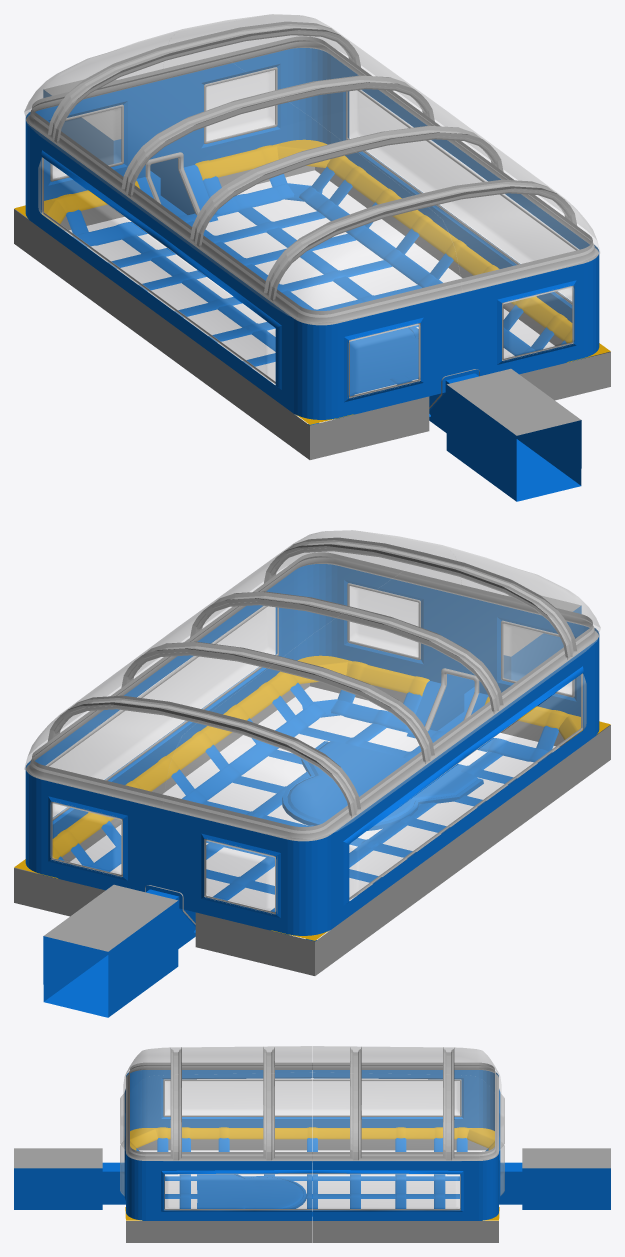
The model's file is SkyZone Room.fbx.
3 renders of one model, top to bottom at view 1: azimuth 30°, elevation 25°; view 2: azimuth 150°, elevation 25°; view 3: azimuth 270°, elevation 25°, orthographic. The views are drawn at different scales.
Parts seen in each view (by area): view 1: Ceiling (×4), Wall2 (×4), Window (×4), LowCover (×6), Wall1 (×4), CeilingTrim (×8), Window1 (×4), polySurface11 (×4), polySurface9 (×4), polySurface8 (×2), PadsHorizontal (×2), PadsVertical (×2) (+6 smaller); view 2: Ceiling (×4), Wall2 (×4), Window (×4), LowCover (×6), Wall1 (×4), CeilingTrim (×8), Window1 (×4), polySurface11 (×4), polySurface9 (×4), polySurface8 (×2), pCylinder2, PadsHorizontal (×3) (+6 smaller); view 3: Ceiling (×4), Window (×4), Wall2 (×4), Wall1 (×4), LowCover (×4), CeilingTrim (×6), polySurface8 (×2), polySurface9 (×4), polySurface11 (×4), WindowTrim (×4), PadsHorizontal (×3), pCylinder2 (+3 smaller).
Part boxes in pixels (box(x1,y1,x2,y2)): Ceiling (×4): box(24, 14, 600, 323); Wall2 (×4): box(25, 48, 599, 501); Window (×4): box(38, 90, 575, 382); LowCover (×6): box(14, 167, 610, 459); Wall1 (×4): box(30, 55, 594, 413); CeilingTrim (×8): box(26, 36, 598, 325); Window1 (×4): box(53, 70, 573, 397); polySurface11 (×4): box(48, 21, 576, 301); polySurface9 (×4): box(121, 75, 503, 247); polySurface8 (×2): box(299, 155, 572, 355); PadsHorizontal (×2): box(108, 211, 420, 337); PadsVertical (×2): box(122, 207, 371, 327); Ceiling (×4): box(24, 530, 600, 839); Wall2 (×4): box(25, 564, 599, 1017); Window (×4): box(49, 606, 586, 898); LowCover (×6): box(14, 683, 610, 975); Wall1 (×4): box(30, 571, 594, 929); CeilingTrim (×8): box(26, 552, 598, 841); Window1 (×4): box(51, 586, 571, 913); polySurface11 (×4): box(48, 537, 576, 817); polySurface9 (×4): box(121, 591, 503, 763); polySurface8 (×2): box(52, 671, 325, 871); pCylinder2: box(282, 741, 402, 825); PadsHorizontal (×3): box(194, 727, 516, 932); Ceiling (×4): box(123, 1046, 501, 1160); Window (×4): box(164, 1081, 460, 1209); Wall2 (×4): box(14, 1070, 610, 1220); Wall1 (×4): box(146, 1070, 478, 1220); LowCover (×4): box(126, 1139, 498, 1242); CeilingTrim (×6): box(126, 1062, 498, 1162); polySurface8 (×2): box(152, 1127, 472, 1151); polySurface9 (×4): box(263, 1047, 361, 1160); polySurface11 (×4): box(170, 1047, 454, 1160); WindowTrim (×4): box(163, 1079, 461, 1210); PadsHorizontal (×3): box(179, 1174, 445, 1208); pCylinder2: box(197, 1192, 306, 1208).
Bounding box in the file's own units: 1.13 × 0.6791 × 2.88.
